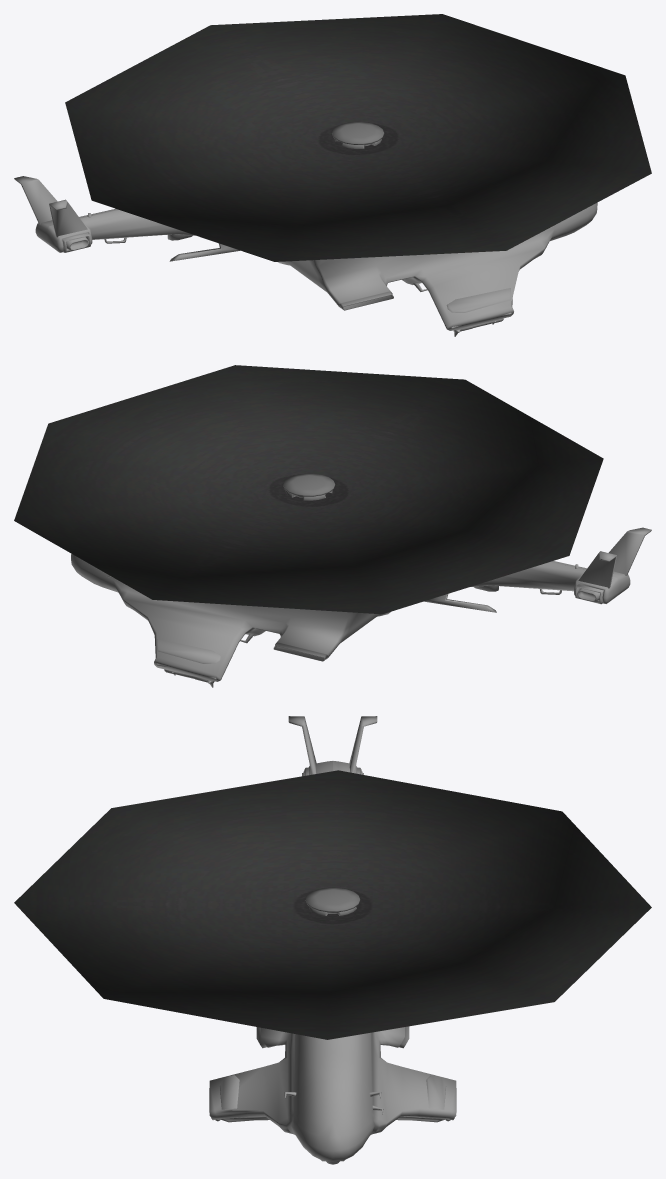
The model's file is Drone2.obj.
3 renders of one model, top to bottom at view 1: azimuth 30°, elevation 25°; view 2: azimuth 150°, elevation 25°; view 3: azimuth 270°, elevation 25°, orthographic. The views are drawn at different scales.
Bounding box in the file's own units: 4838 × 1507 × 4353.
